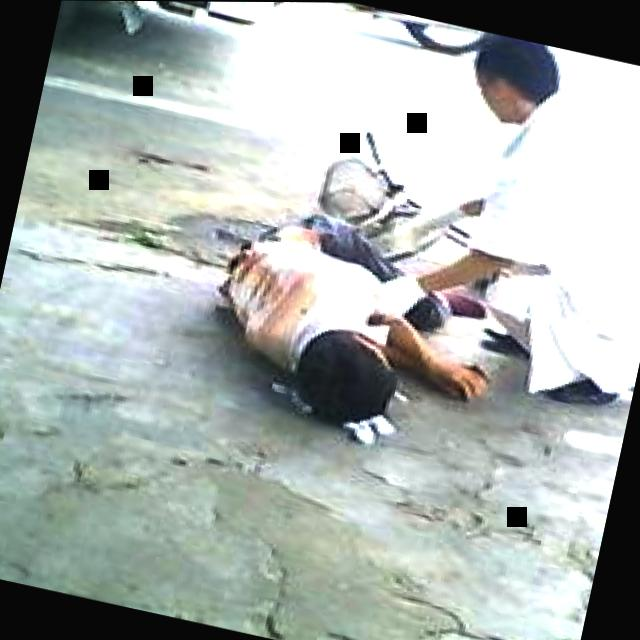Fall-Detected: (183, 174, 522, 475)
